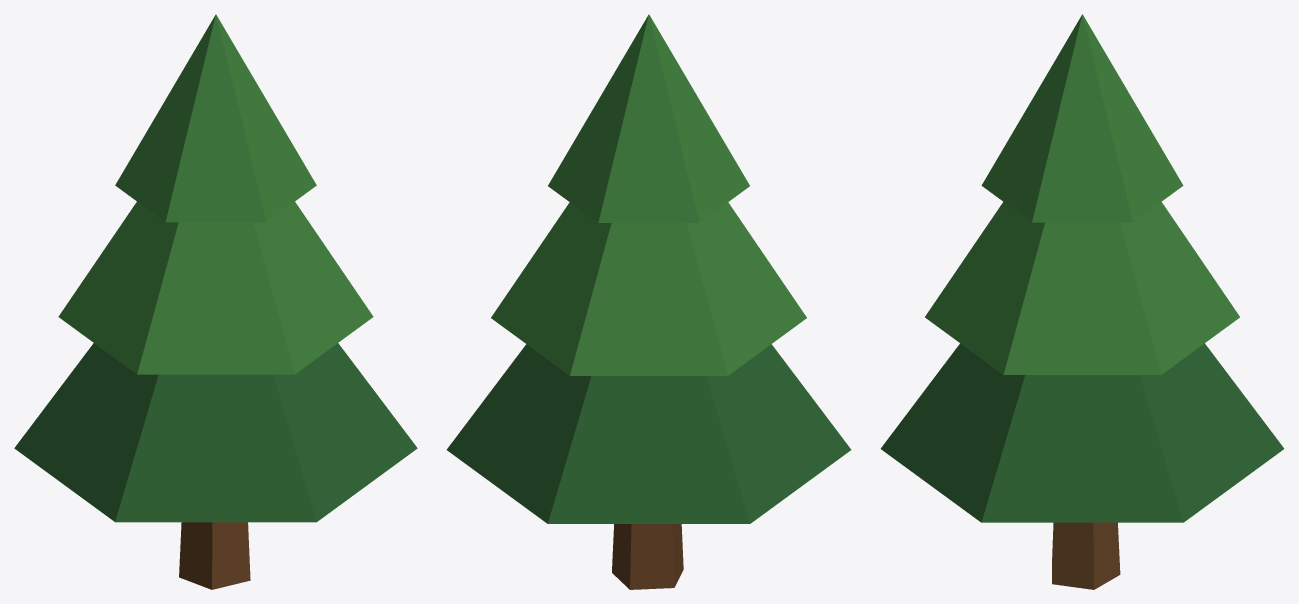
Rendered from tree.fbx.
3 views of the same model, side by side, from view 1: azimuth 30°, elevation 25°; view 2: azimuth 150°, elevation 25°; view 3: azimuth 270°, elevation 25° (orthographic).
Visible parts, largest first — view 1: tree; view 2: tree; view 3: tree.
Boxes of the visible parts, bbox=[...] form: tree: bbox=[14, 14, 417, 589]; tree: bbox=[446, 14, 851, 589]; tree: bbox=[880, 14, 1284, 589].
Bounding box in the file's own units: 0.5543 × 0.98 × 0.64.
